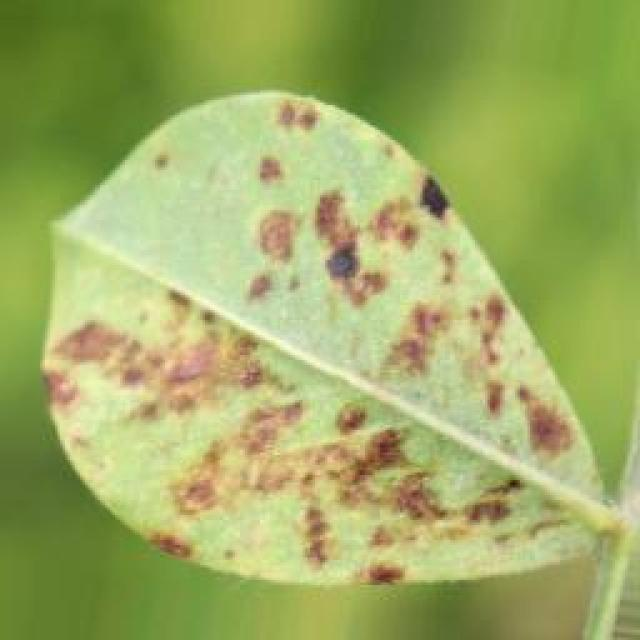Whitefly: (0, 69, 612, 572)
